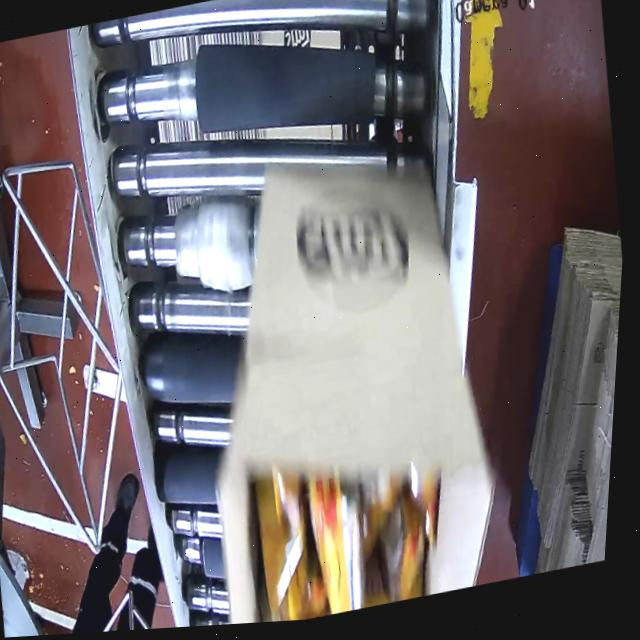FRENCH_CHEESE: (228, 446, 452, 624)
